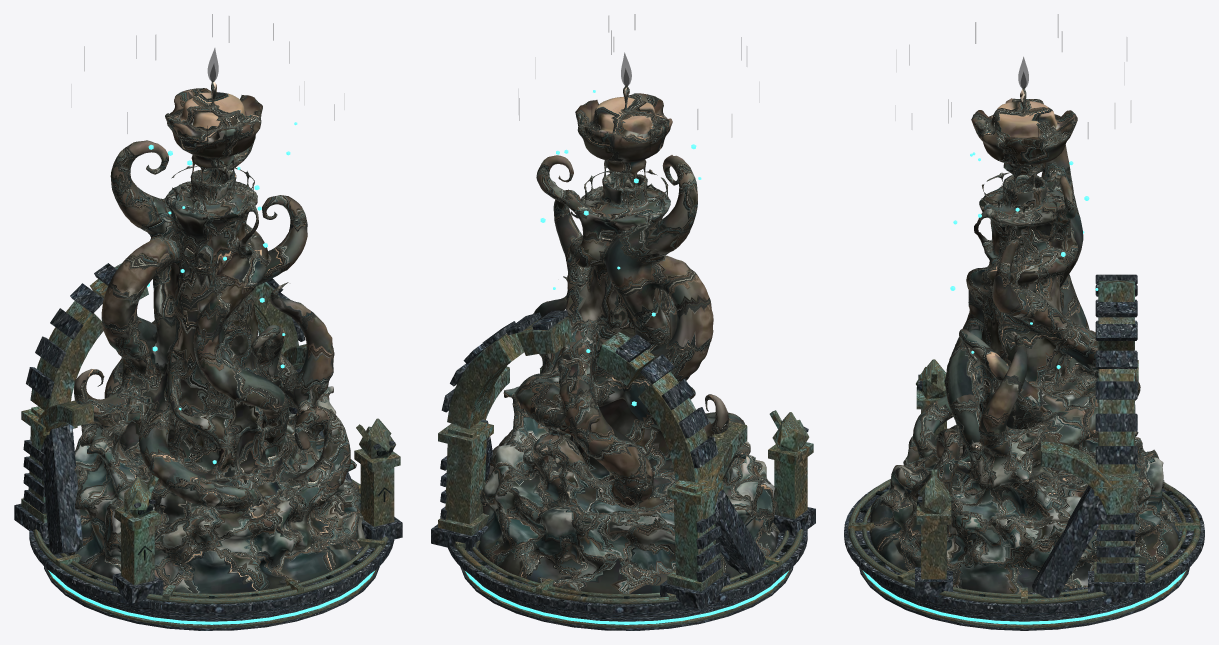
The picture shows the model from 3 angles, left to right: view 1: azimuth 30°, elevation 25°; view 2: azimuth 150°, elevation 25°; view 3: azimuth 270°, elevation 25°; orthographic projection.
Visible parts, largest first — view 1: statue-original, Broken temple and guardians, Foundation, LumenRings; view 2: statue-original, Broken temple and guardians, Foundation, LumenRings; view 3: statue-original, Broken temple and guardians, Foundation, LumenRings.
Part boxes in pixels (box(x1,y1,x2,y2)): statue-original: box(68, 80, 365, 593); Broken temple and guardians: box(14, 263, 402, 612); Foundation: box(44, 566, 379, 630); LumenRings: box(48, 570, 374, 624); statue-original: box(477, 85, 779, 593); Broken temple and guardians: box(431, 310, 815, 612); Foundation: box(460, 566, 793, 630); LumenRings: box(465, 571, 788, 624); statue-original: box(869, 87, 1179, 593); Broken temple and guardians: box(844, 274, 1204, 612); Foundation: box(859, 567, 1189, 630); LumenRings: box(863, 571, 1185, 624).
Size of the model in its own units: 11.36 by 17.54 by 11.36.
Materials: 4 (2 with a texture image).
